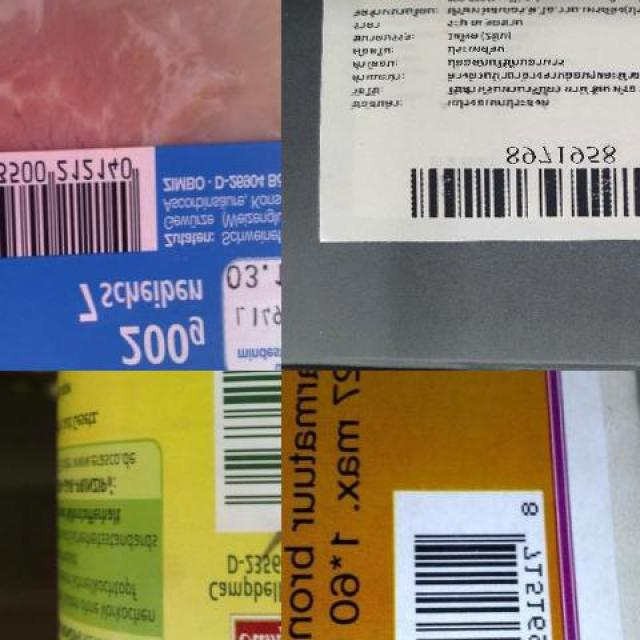Barcode: (388, 486, 562, 640), (388, 141, 640, 227), (0, 129, 155, 268), (211, 371, 281, 533)
